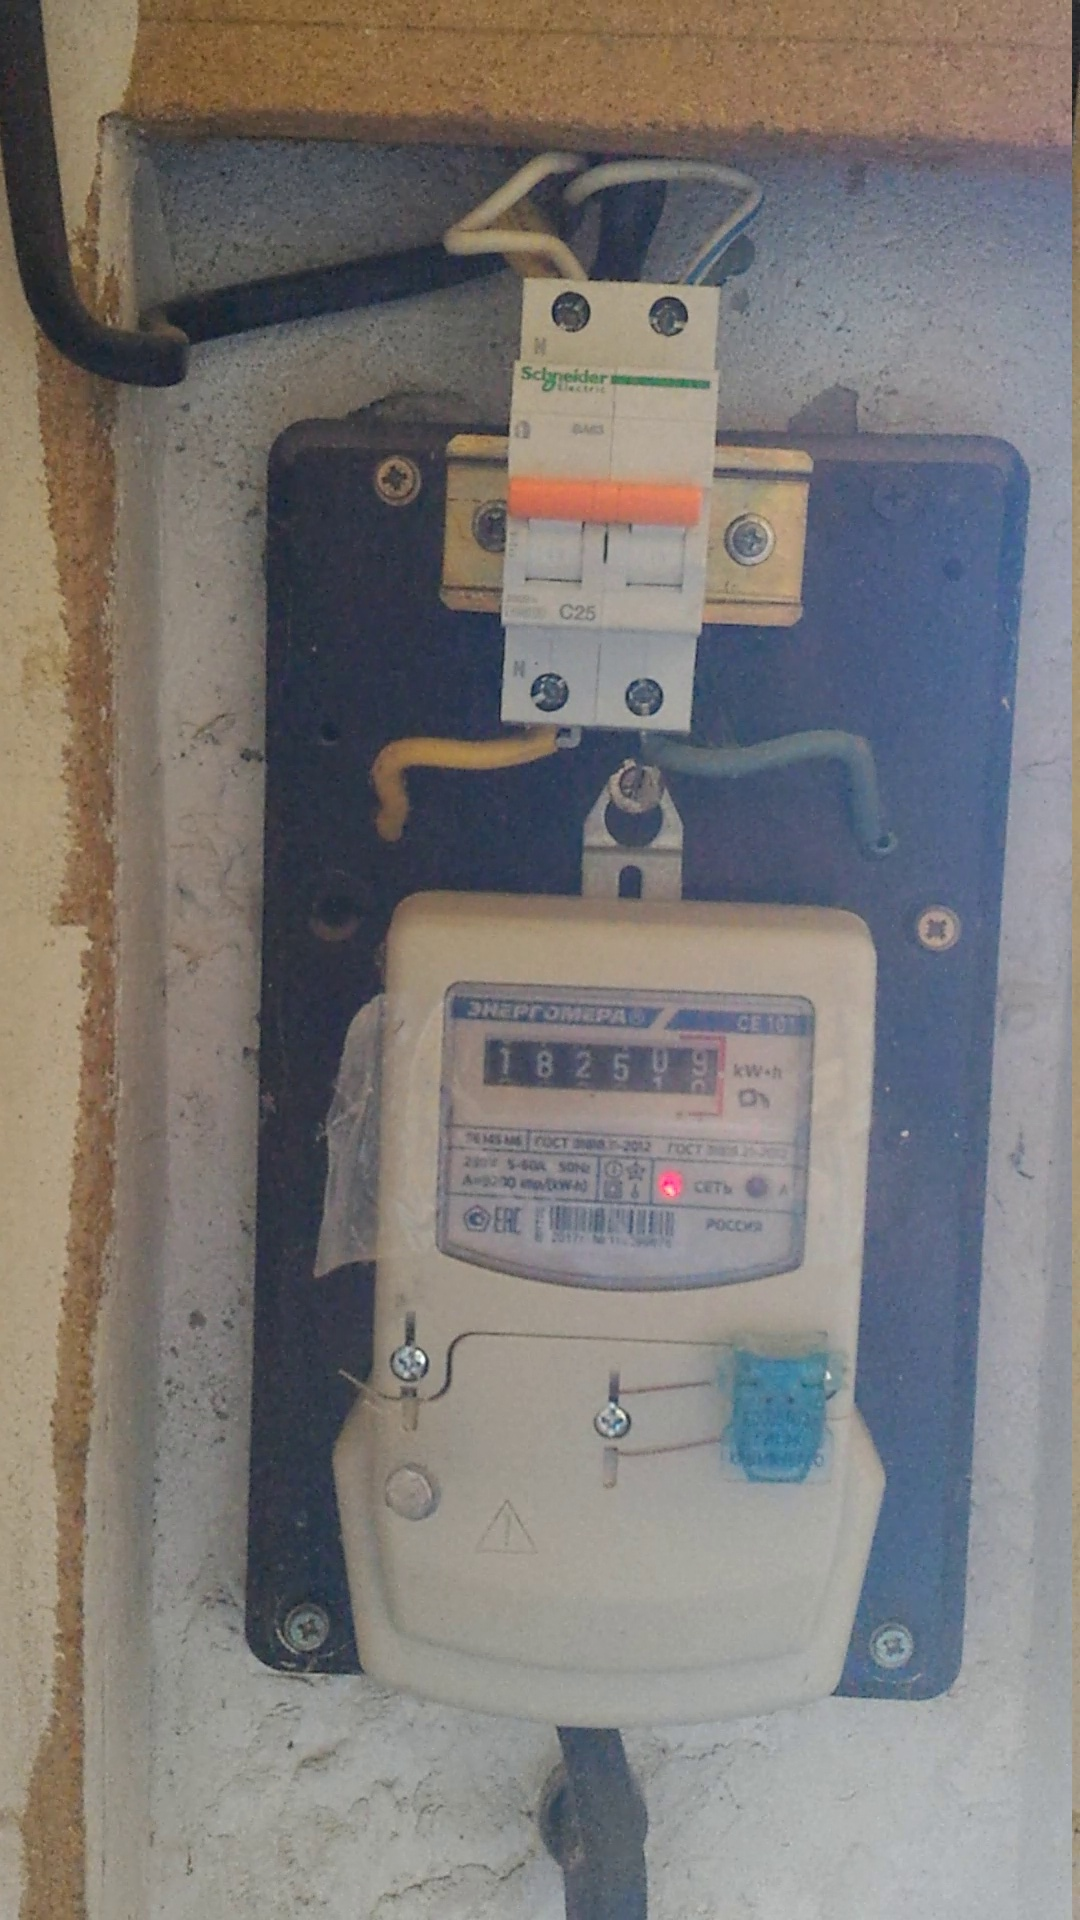counter: (315, 877, 899, 1726)
counter_screen: (483, 1033, 721, 1098)
